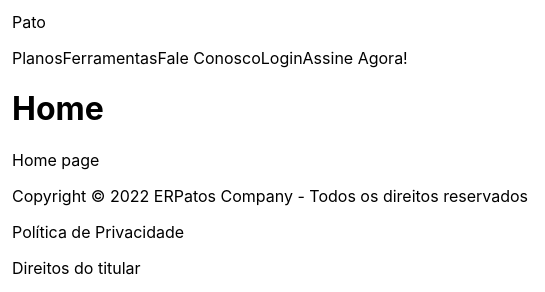
it: Navigation › should navigate to the contact page
The width and height of the screenshot is (545, 292).
Find a link with an href attribute containing "contact" and click it
Click the link "Fale Conosco". click: (210, 58)
box: [158, 48, 261, 68]
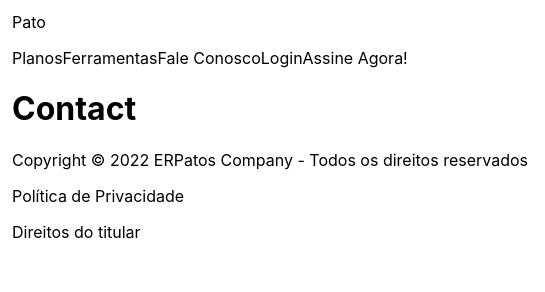
Expected: the heading "Contact" is shown, [12, 89, 136, 128]
